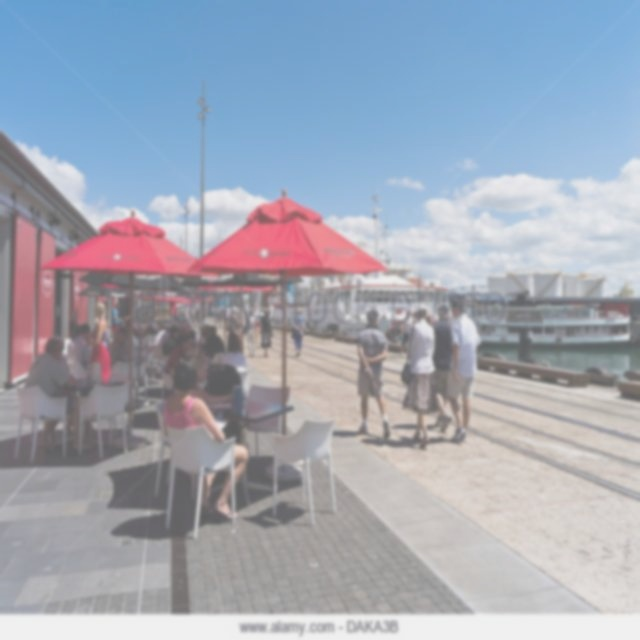pessoa: (163, 358, 251, 522), (24, 334, 95, 457), (400, 300, 438, 450), (446, 298, 483, 446), (38, 336, 81, 450), (356, 307, 391, 439), (182, 346, 235, 408), (192, 333, 230, 416), (431, 303, 455, 434), (64, 322, 92, 419), (159, 321, 191, 378), (90, 302, 111, 385), (124, 311, 193, 333), (163, 333, 194, 375), (107, 326, 140, 364), (222, 331, 248, 368), (200, 325, 226, 362), (259, 306, 275, 358), (291, 307, 307, 358), (398, 308, 414, 358), (227, 304, 242, 356), (242, 307, 257, 358), (425, 312, 438, 360), (249, 308, 264, 349), (112, 302, 123, 343), (235, 307, 245, 347), (178, 300, 199, 312), (216, 306, 223, 325), (193, 312, 203, 322), (203, 303, 208, 320), (242, 307, 248, 320)
